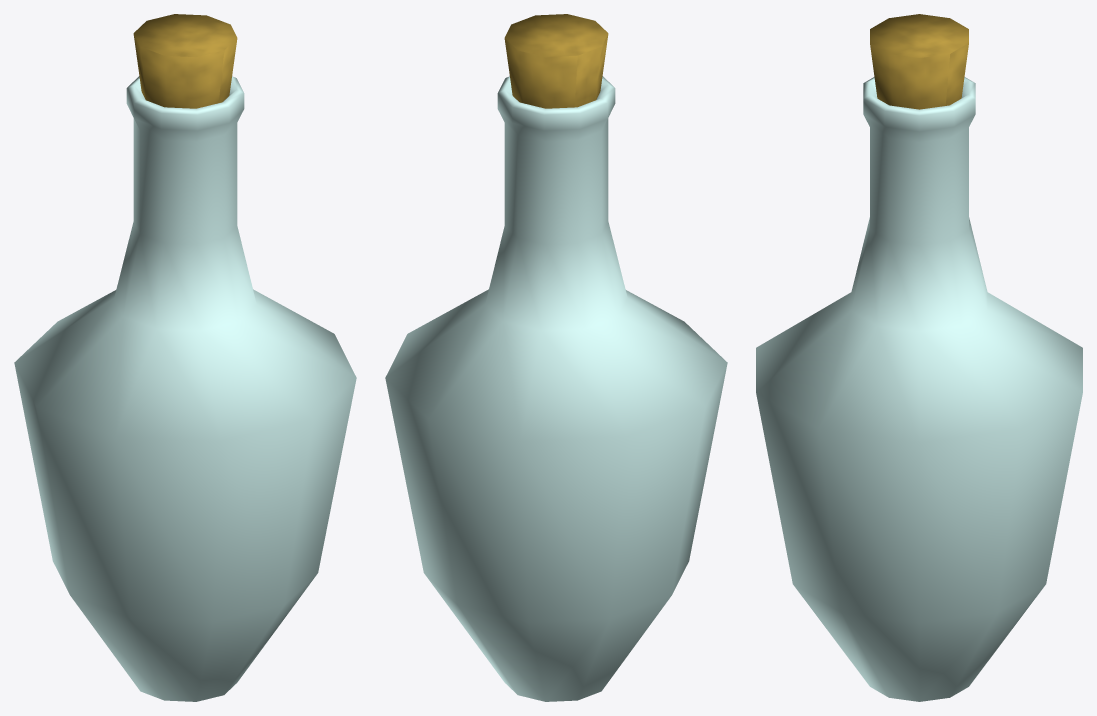
Rendered from heart-short_neck.glb.
3 views of the same model, side by side, from view 1: azimuth 30°, elevation 25°; view 2: azimuth 150°, elevation 25°; view 3: azimuth 270°, elevation 25° (orthographic).
Visible parts, largest first — view 1: heart-short_neck, cork-heart-short_neck; view 2: heart-short_neck, cork-heart-short_neck; view 3: heart-short_neck, cork-heart-short_neck.
Part boxes in pixels (x1,y1,x2,y2): heart-short_neck: (14, 76, 356, 701); cork-heart-short_neck: (133, 14, 237, 108); heart-short_neck: (385, 76, 727, 701); cork-heart-short_neck: (504, 14, 608, 108); heart-short_neck: (756, 77, 1082, 701); cork-heart-short_neck: (870, 14, 968, 109).
Size of the model in its own units: 0.0745 by 0.154 by 0.0709.
2 materials, 1 textured.
